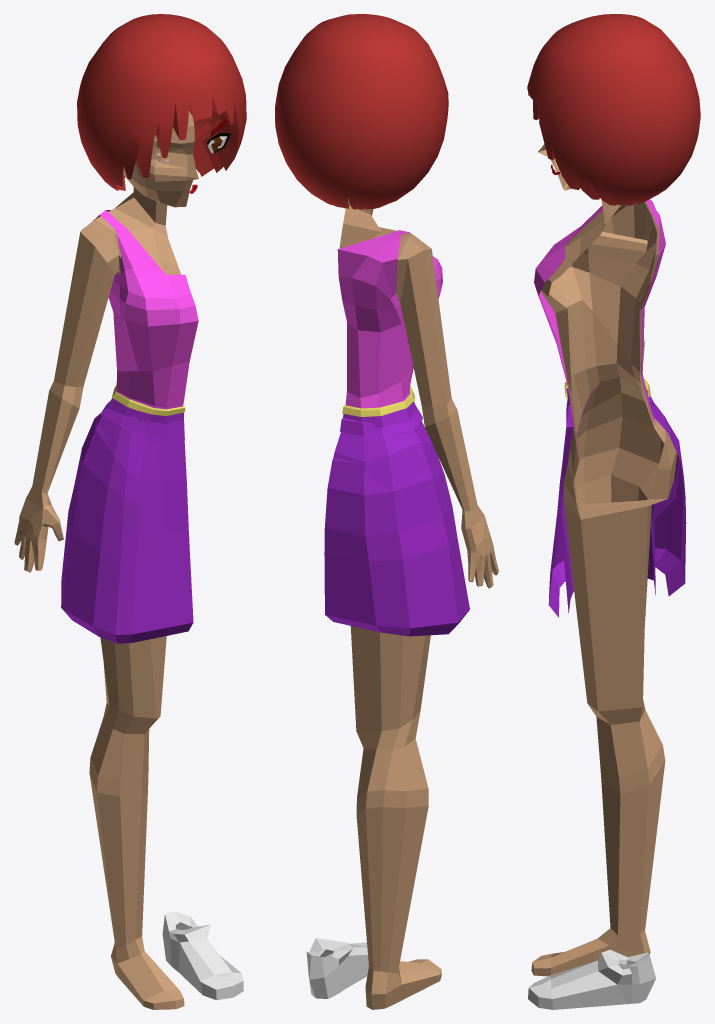
File: Jovencita_2.fbx
3 renders of one model, left to right at view 1: azimuth 30°, elevation 25°; view 2: azimuth 150°, elevation 25°; view 3: azimuth 270°, elevation 25°, orthographic.
Parts seen in each view (by area): view 1: Cuerpo, Falda_3, Cabello, Blusa, Zapatos, Falda_2; view 2: Cuerpo, Cabello, Falda_3, Blusa, Falda_2, Zapatos; view 3: Cuerpo, Cabello, Zapatos, Falda_3, Blusa, Falda_2.
Part boxes in pixels (x1,y1,x2,y2): Cuerpo: [14, 110, 198, 1009]; Falda_3: [61, 385, 193, 643]; Cabello: [77, 14, 246, 190]; Blusa: [92, 210, 198, 409]; Zapatos: [162, 911, 243, 1000]; Falda_2: [81, 401, 184, 494]; Cuerpo: [339, 198, 498, 1009]; Cabello: [275, 14, 448, 209]; Falda_3: [324, 386, 469, 636]; Blusa: [337, 230, 442, 408]; Falda_2: [327, 405, 442, 494]; Zapatos: [306, 938, 368, 998]; Cuerpo: [531, 143, 677, 976]; Cabello: [527, 14, 700, 205]; Zapatos: [528, 949, 655, 1009]; Falda_3: [548, 378, 686, 617]; Blusa: [534, 199, 665, 459]; Falda_2: [561, 385, 680, 613].
Size of the model in its own units: 38.45 by 170 by 27.7.
